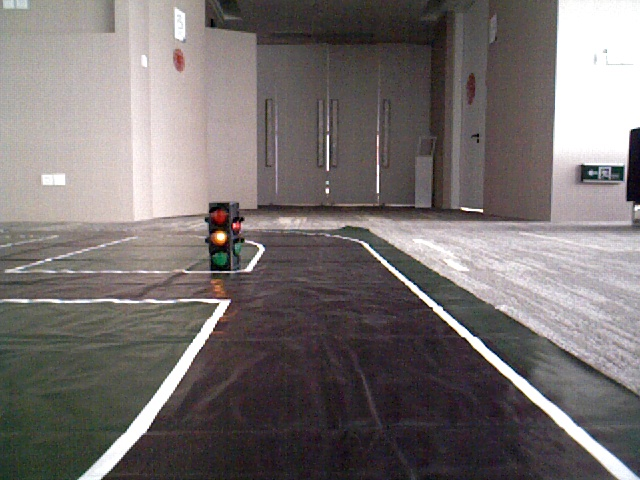yellow: (207, 206, 230, 267)
